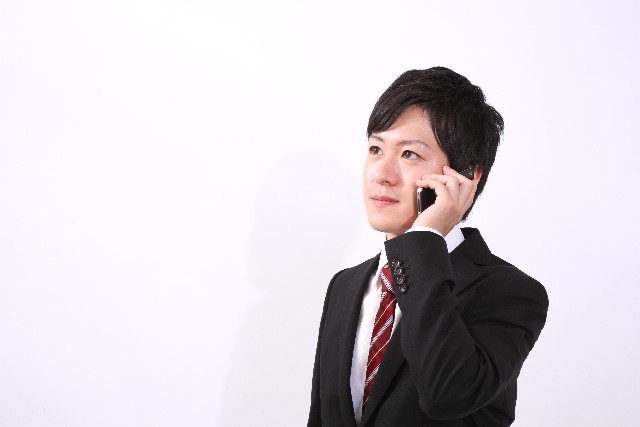phone: (413, 164, 485, 216)
talk: (359, 132, 479, 233)
